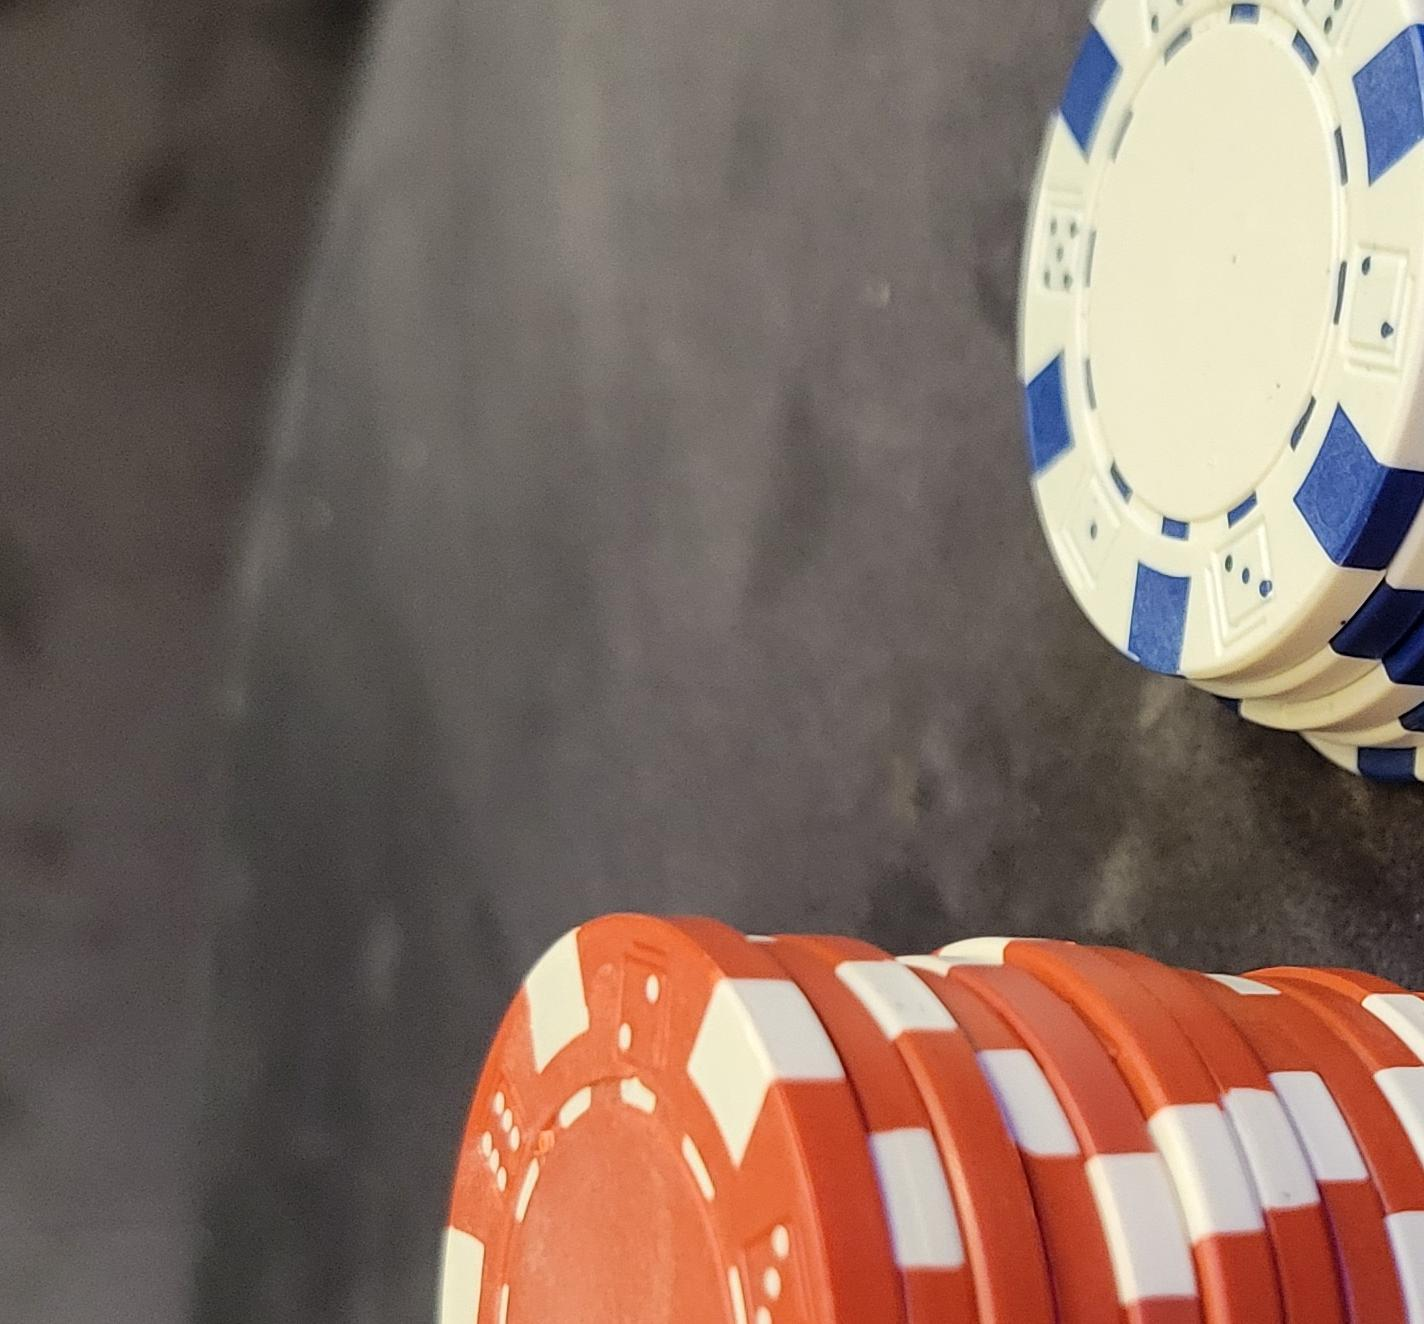Chip: (1, 204, 919, 1324)
